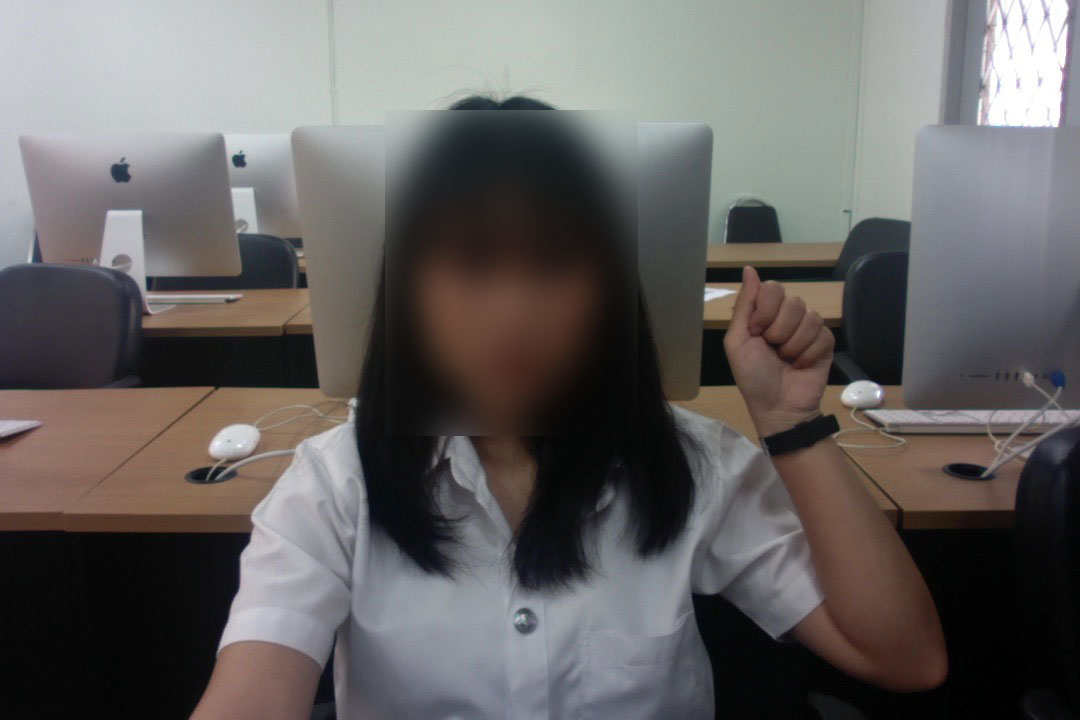or: (714, 260, 841, 434)
